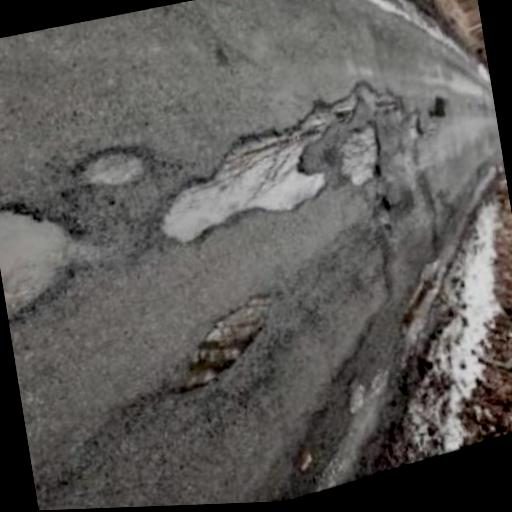pothole: (174, 58, 512, 225), (164, 94, 484, 266), (54, 98, 206, 271), (0, 112, 4, 441)
